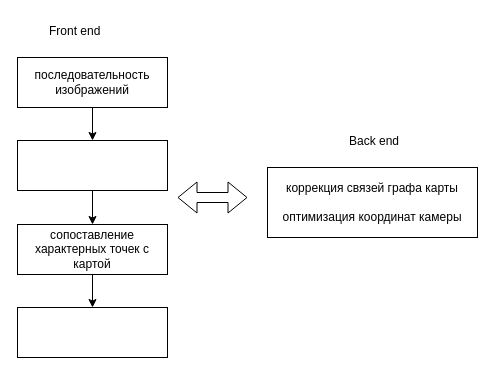
Image size: 495x375. Some labels were removed from this diagram. The centre of each missing label's shape, as x and y in pixels:
"определение характерных точек" goes at point (92, 165).
"опредение движения 2D, 3D" goes at point (92, 332).
